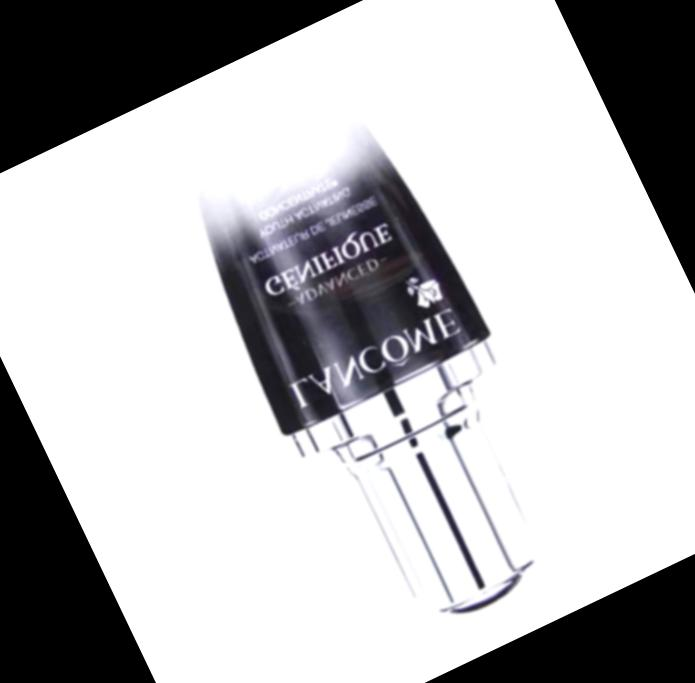cosmetic: (145, 44, 599, 655)
